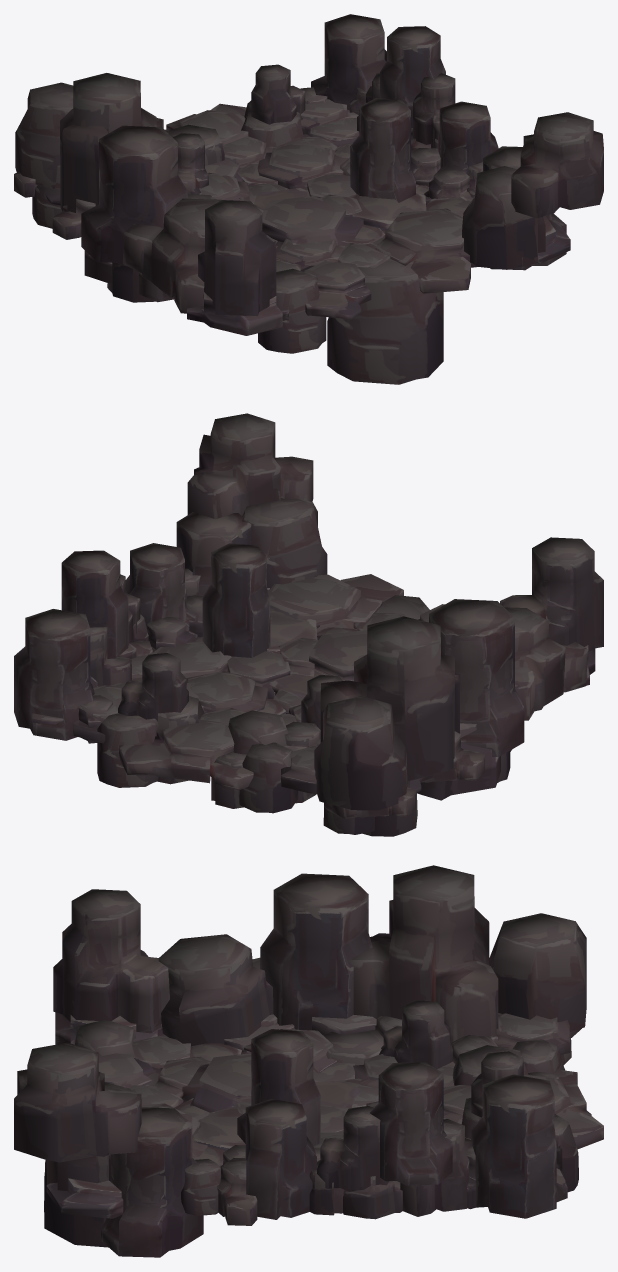
The model's file is Rock2.fbx.
The picture shows the model from 3 angles, top to bottom: view 1: azimuth 30°, elevation 25°; view 2: azimuth 150°, elevation 25°; view 3: azimuth 270°, elevation 25°; orthographic projection. The views are drawn at different scales.
Visible parts, largest first — view 1: Rock2__12_, Rock__14_, Rock3__24_, Rock1__16_, Rock3__27__1, Rock3__26_, Rock2__14_, Rock3__25_, Rock__3_, Rock__1_, Rock1__11_, Rock2__15_ (+30 smaller); view 2: Rock3__27__1, Rock__14_, Rock3__24_, Rock2__15_, Rock__1_, Rock1__16_, Rock__3_, Rock3__12_, Rock2__14_, Rock3__26_, Rock3__25_, Rock__13_ (+28 smaller); view 3: Rock3__27__1, Rock__14_, Rock1__16_, Rock3__24_, Rock__1_, Rock__4_, Rock3__26_, Rock2__15_, Rock__13_, Rock, Rock__3_, Rock1__15_ (+35 smaller).
Part boxes in pixels (left/top/right/bottom): Rock2__12_: left=327, top=258, right=443, bottom=384; Rock__14_: left=81, top=125, right=187, bottom=265; Rock3__24_: left=511, top=112, right=603, bottom=218; Rock1__16_: left=198, top=200, right=276, bottom=316; Rock3__27__1: left=60, top=73, right=163, bottom=212; Rock3__26_: left=122, top=198, right=221, bottom=313; Rock2__14_: left=462, top=166, right=545, bottom=269; Rock3__25_: left=370, top=208, right=477, bottom=293; Rock__3_: left=350, top=98, right=415, bottom=202; Rock__1_: left=311, top=14, right=386, bottom=110; Rock1__11_: left=254, top=188, right=363, bottom=245; Rock2__15_: left=15, top=82, right=73, bottom=188; Rock3__27__1: left=320, top=616, right=460, bottom=781; Rock__14_: left=429, top=599, right=524, bottom=756; Rock3__24_: left=187, top=413, right=313, bottom=519; Rock2__15_: left=314, top=696, right=407, bottom=810; Rock__1_: left=14, top=609, right=94, bottom=740; Rock1__16_: left=500, top=537, right=603, bottom=651; Rock__3_: left=202, top=543, right=270, bottom=657; Rock3__12_: left=119, top=719, right=253, bottom=790; Rock2__14_: left=242, top=498, right=327, bottom=588; Rock3__26_: left=504, top=607, right=587, bottom=720; Rock3__25_: left=268, top=574, right=403, bottom=631; Rock__13_: left=61, top=550, right=128, bottom=658; Rock3__27__1: left=349, top=865, right=498, bottom=1041; Rock__14_: left=260, top=873, right=372, bottom=1030; Rock1__16_: left=53, top=889, right=169, bottom=1033; Rock3__24_: left=14, top=1042, right=141, bottom=1162; Rock__1_: left=471, top=1074, right=567, bottom=1218; Rock__4_: left=101, top=1107, right=203, bottom=1257; Rock3__26_: left=158, top=934, right=273, bottom=1046; Rock2__15_: left=489, top=913, right=586, bottom=1031; Rock__13_: left=370, top=1062, right=452, bottom=1185; Rock: left=245, top=1099, right=316, bottom=1219; Rock__3_: left=237, top=1029, right=320, bottom=1145; Rock1__15_: left=317, top=1106, right=388, bottom=1191.
Size of the model in its own units: 1811 by 913 by 1924.
